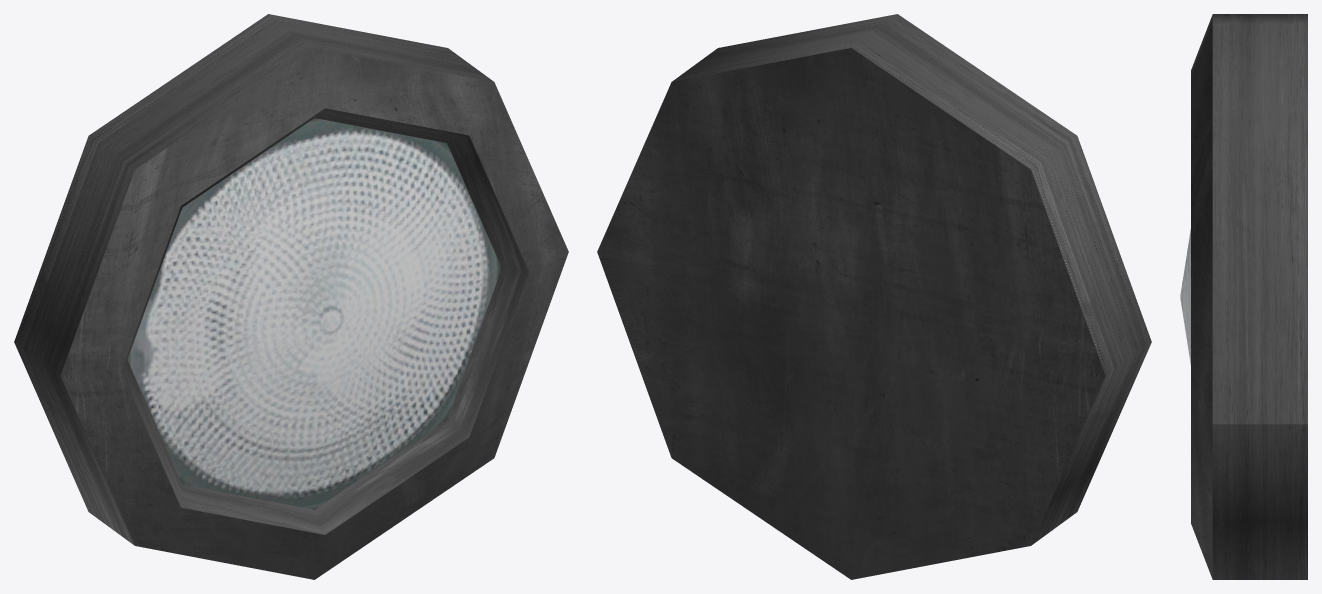
The model's file is p6_lights_club_recessed_dim_LOD1.obj.
3 views of the same model, side by side, from view 1: azimuth 30°, elevation 25°; view 2: azimuth 150°, elevation 25°; view 3: azimuth 270°, elevation 25° (orthographic). The views are drawn at different scales.
Visible parts, largest first — view 1: metal_wall_brushed, light_recessed_dim; view 2: metal_wall_brushed; view 3: metal_wall_brushed, light_recessed_dim.
Part boxes in pixels (bbox=[...]): metal_wall_brushed: bbox=[14, 14, 568, 579]; light_recessed_dim: bbox=[127, 118, 501, 509]; metal_wall_brushed: bbox=[597, 14, 1151, 579]; metal_wall_brushed: bbox=[1191, 14, 1307, 579]; light_recessed_dim: bbox=[1180, 229, 1190, 364].
Bounding box in the file's own units: 25.6 × 25.6 × 5.43.
